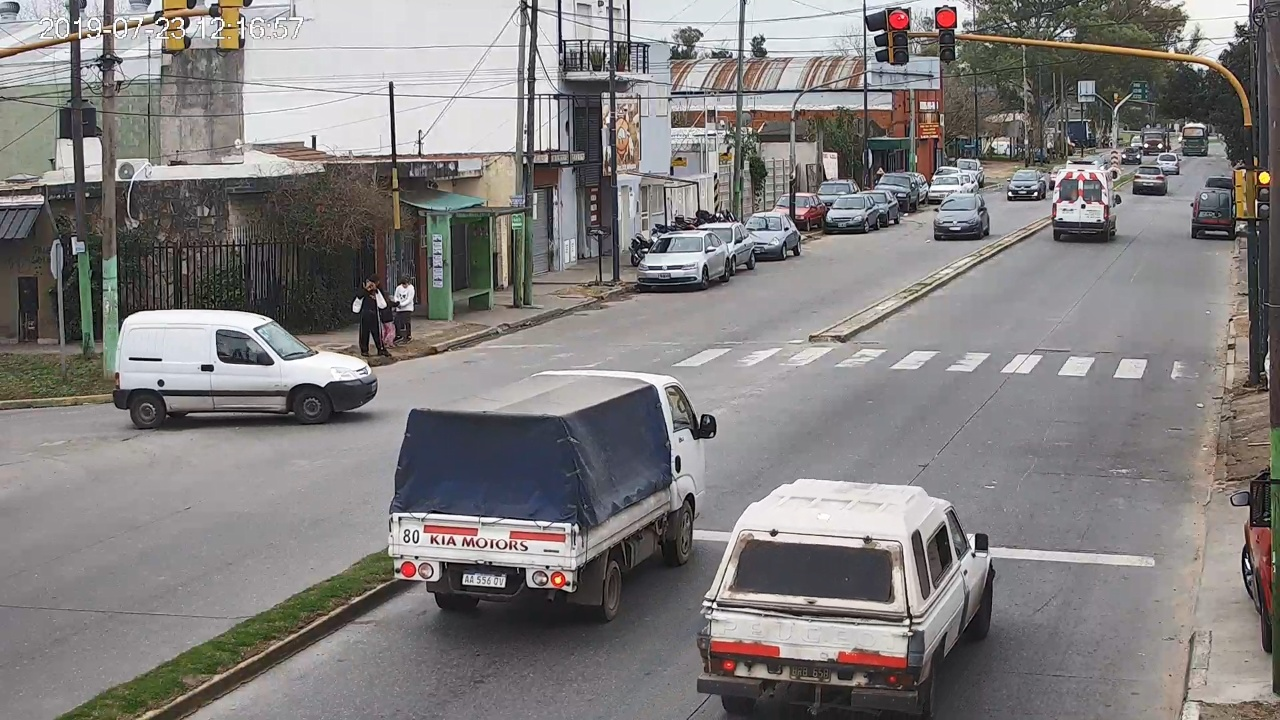car: (387, 370, 717, 625), (697, 477, 995, 720), (1053, 170, 1122, 241), (1191, 187, 1234, 239), (1132, 165, 1168, 195)
traffic light: (935, 7, 956, 60), (889, 8, 909, 63), (1258, 170, 1269, 217)
